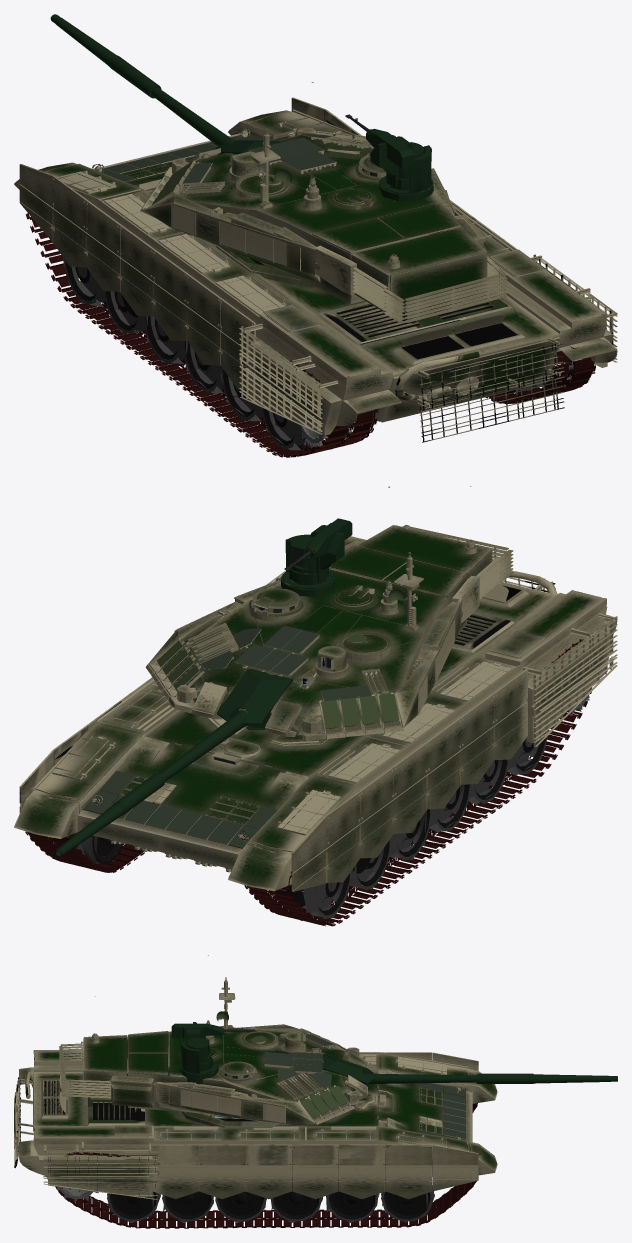
The picture shows the model from 3 angles, top to bottom: view 1: azimuth 30°, elevation 25°; view 2: azimuth 150°, elevation 25°; view 3: azimuth 270°, elevation 25°; orthographic projection. The views are drawn at different scales.
Parts seen in each view (by area): view 1: V_t90m__Body_3, V_t90m__Turret_1, V_t90m__Body_1, V_t90m__Body_2, V_t90m__Body_9, V_t90m__Gun_2, V_t90m__Body_6, V_t90m__Body_11, V_t90m__Turret_9, V_t90m__Turret_4, V_t90m__Body_5, V_t90m__RwsGun_1 (+1 smaller); view 2: V_t90m__Body_3, V_t90m__Turret_1, V_t90m__Body_2, V_t90m__Gun_2, V_t90m__Body_9, V_t90m__Body_5, V_t90m__Body_1, V_t90m__Turret_4, V_t90m__Turret_7, V_t90m__Body_11, V_t90m__Turret_9, V_t90m__RwsGun_1 (+1 smaller); view 3: V_t90m__Body_3, V_t90m__Turret_1, V_t90m__Body_1, V_t90m__Body_10, V_t90m__Body_2, V_t90m__Gun_2, V_t90m__Body_9, V_t90m__Turret_4, V_t90m__Body_5, V_t90m__Turret_9, V_t90m__Body_6, V_t90m__Turret_7 (+1 smaller).
Part boxes in pixels (bbox=[...]): V_t90m__Body_3: bbox=[14, 109, 617, 435]; V_t90m__Turret_1: bbox=[140, 82, 507, 323]; V_t90m__Body_1: bbox=[92, 97, 617, 442]; V_t90m__Body_2: bbox=[25, 213, 595, 457]; V_t90m__Body_9: bbox=[63, 258, 545, 450]; V_t90m__Gun_2: bbox=[50, 14, 283, 172]; V_t90m__Body_6: bbox=[336, 297, 517, 359]; V_t90m__Body_11: bbox=[65, 261, 307, 445]; V_t90m__Turret_9: bbox=[370, 142, 433, 201]; V_t90m__Turret_4: bbox=[182, 133, 359, 186]; V_t90m__Body_5: bbox=[101, 133, 263, 181]; V_t90m__RwsGun_1: bbox=[366, 128, 414, 168]; V_t90m__Body_3: bbox=[14, 536, 617, 891]; V_t90m__Turret_1: bbox=[145, 486, 513, 768]; V_t90m__Body_2: bbox=[25, 639, 591, 926]; V_t90m__Gun_2: bbox=[54, 668, 293, 857]; V_t90m__Body_9: bbox=[70, 730, 548, 919]; V_t90m__Body_5: bbox=[83, 770, 277, 848]; V_t90m__Body_1: bbox=[19, 570, 557, 842]; V_t90m__Turret_4: bbox=[201, 625, 371, 701]; V_t90m__Turret_7: bbox=[157, 588, 407, 728]; V_t90m__Body_11: bbox=[286, 733, 545, 915]; V_t90m__Turret_9: bbox=[281, 532, 344, 605]; V_t90m__RwsGun_1: bbox=[304, 518, 352, 560]; V_t90m__Body_3: bbox=[19, 1048, 497, 1199]; V_t90m__Turret_1: bbox=[59, 955, 367, 1126]; V_t90m__Body_1: bbox=[14, 1071, 478, 1199]; V_t90m__Body_10: bbox=[110, 1177, 430, 1219]; V_t90m__Body_2: bbox=[55, 1103, 477, 1228]; V_t90m__Gun_2: bbox=[322, 1054, 617, 1090]; V_t90m__Body_9: bbox=[107, 1177, 434, 1222]; V_t90m__Turret_4: bbox=[264, 1034, 333, 1087]; V_t90m__Body_5: bbox=[419, 1083, 465, 1140]; V_t90m__Turret_9: bbox=[180, 1022, 218, 1084]; V_t90m__Body_6: bbox=[44, 1080, 140, 1119]; V_t90m__Turret_7: bbox=[216, 1011, 348, 1118].
Bounding box in the file's own units: 10.58 × 10.51 × 26.77.
27 materials, 4 textured.
